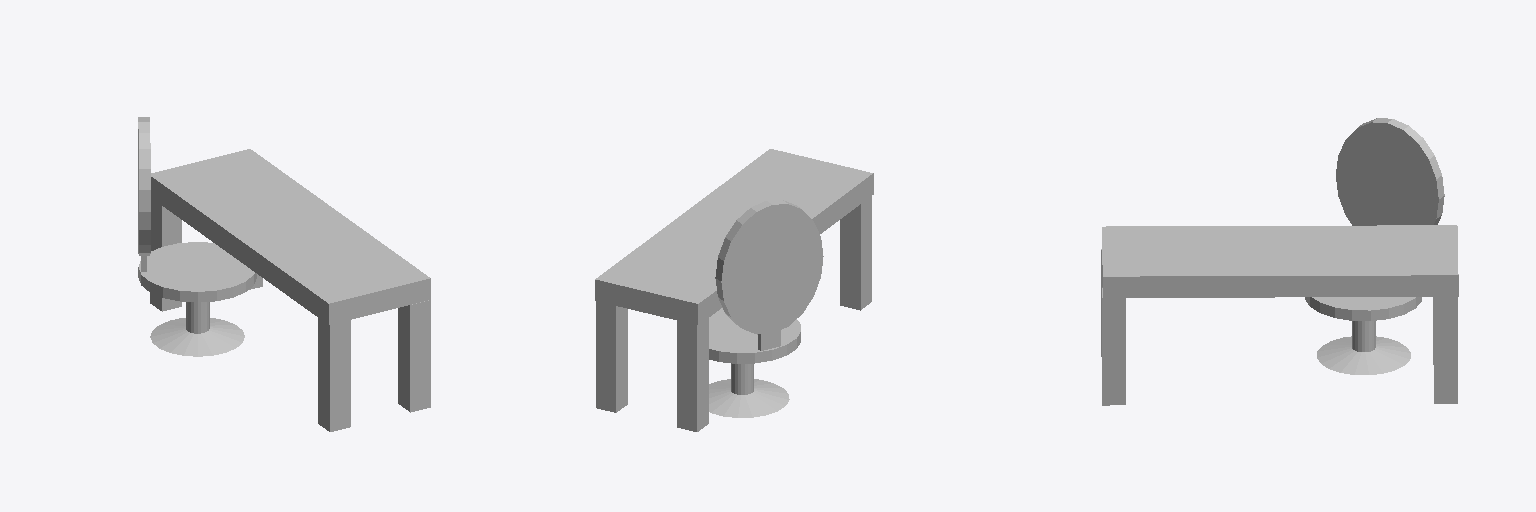
The model's file is ComDesk2.obj.
The picture shows the model from 3 angles: view 1: azimuth 30°, elevation 25°; view 2: azimuth 150°, elevation 25°; view 3: azimuth 270°, elevation 25°; orthographic projection.
Parts seen in each view (by area): view 1: pCube55; view 2: pCube55; view 3: pCube55.
Part boxes in pixels (bbox=[...]): pCube55: bbox=[138, 117, 430, 431]; pCube55: bbox=[595, 149, 873, 431]; pCube55: bbox=[1101, 118, 1458, 405].
Size of the model in its own units: 1.68 by 2 by 3.01.